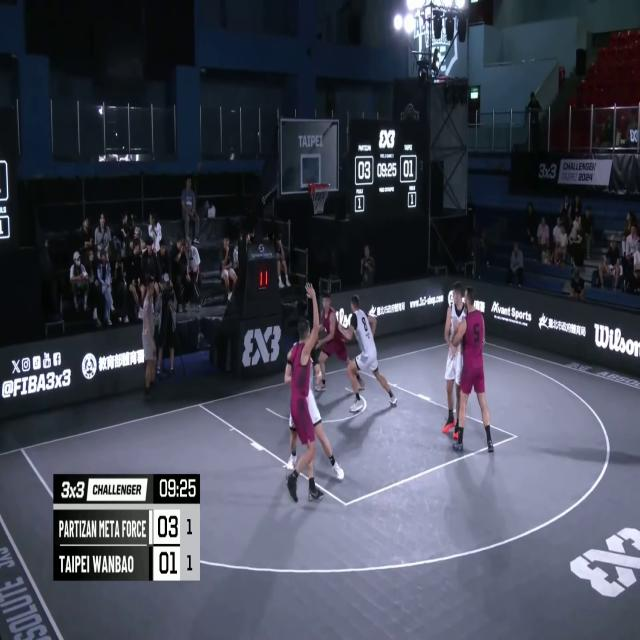hoop: (306, 179, 331, 220)
player: (280, 280, 336, 499), (286, 297, 346, 483), (450, 286, 496, 460), (343, 295, 396, 412), (441, 284, 469, 446), (313, 293, 353, 402)
